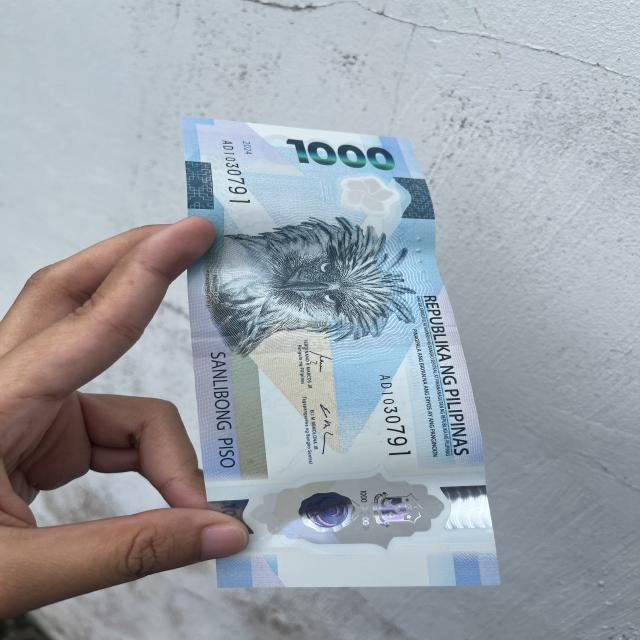clear_window: (264, 480, 442, 552)
eagle: (220, 214, 414, 347)
sampaguita: (314, 171, 400, 218)
security_thread: (194, 326, 459, 355)
serial_number: (376, 370, 414, 469), (217, 134, 256, 209)
value_watermark: (220, 500, 239, 515)
